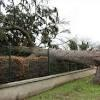Downstairs: (0, 21, 100, 68)
